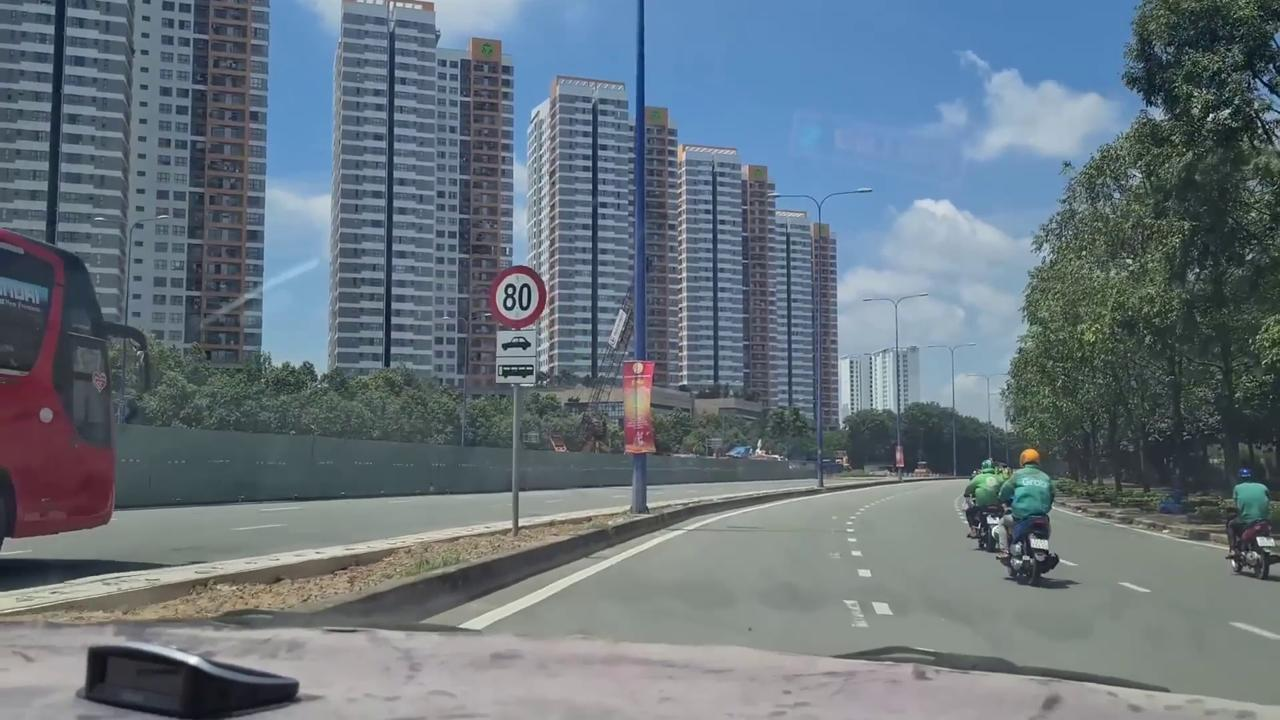Biển phụ: (494, 329, 537, 385)
Giới hạn tốc độ 80Km/h: (489, 263, 547, 331)
